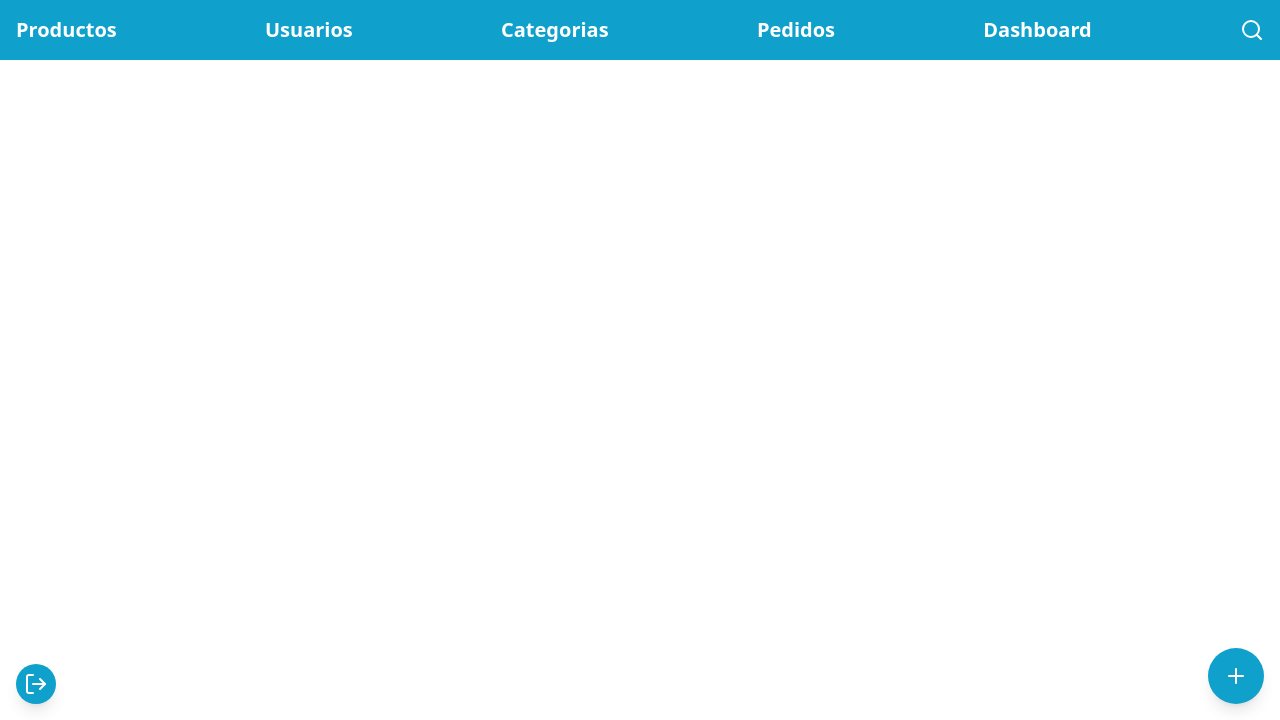
Test: Navigation › permite cambiar el criterio de búsqueda
The image size is (1280, 720).
Click the element named "abrir-busqueda".
click(1252, 30)  # box [1240, 18, 1264, 42]
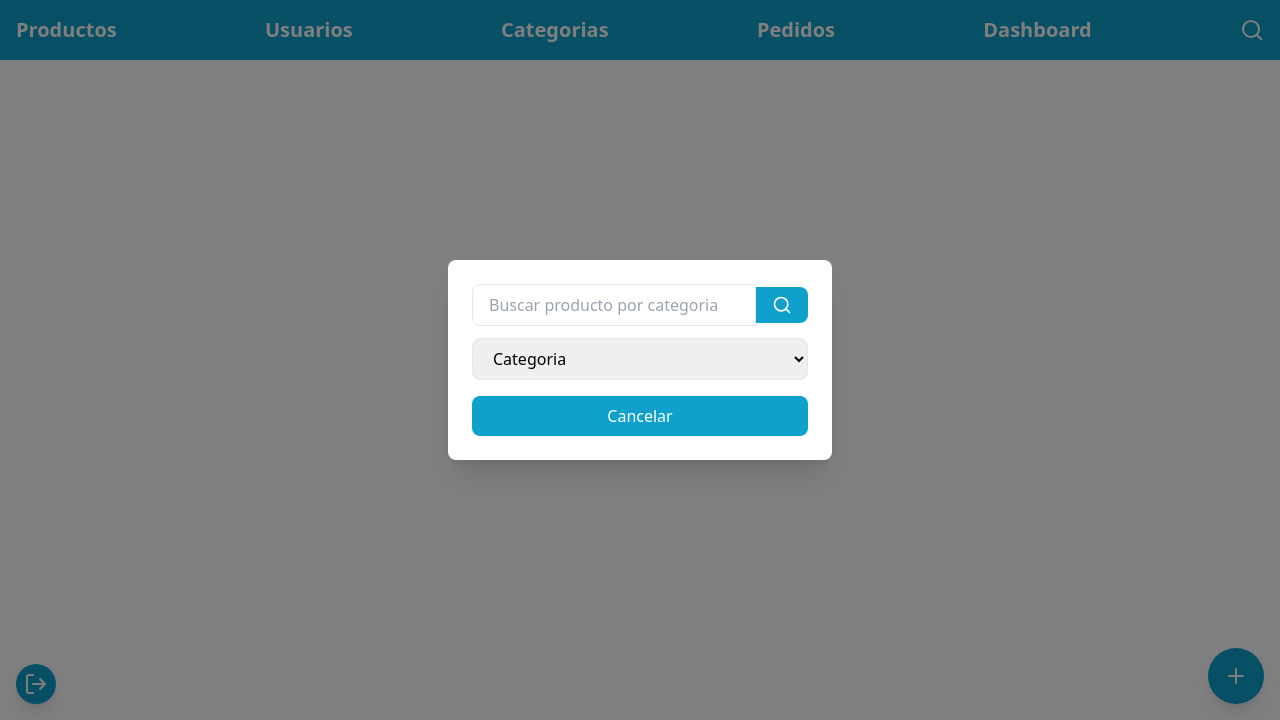
Select "Categoria" in the dropdown at (640, 359), box [472, 338, 808, 380]
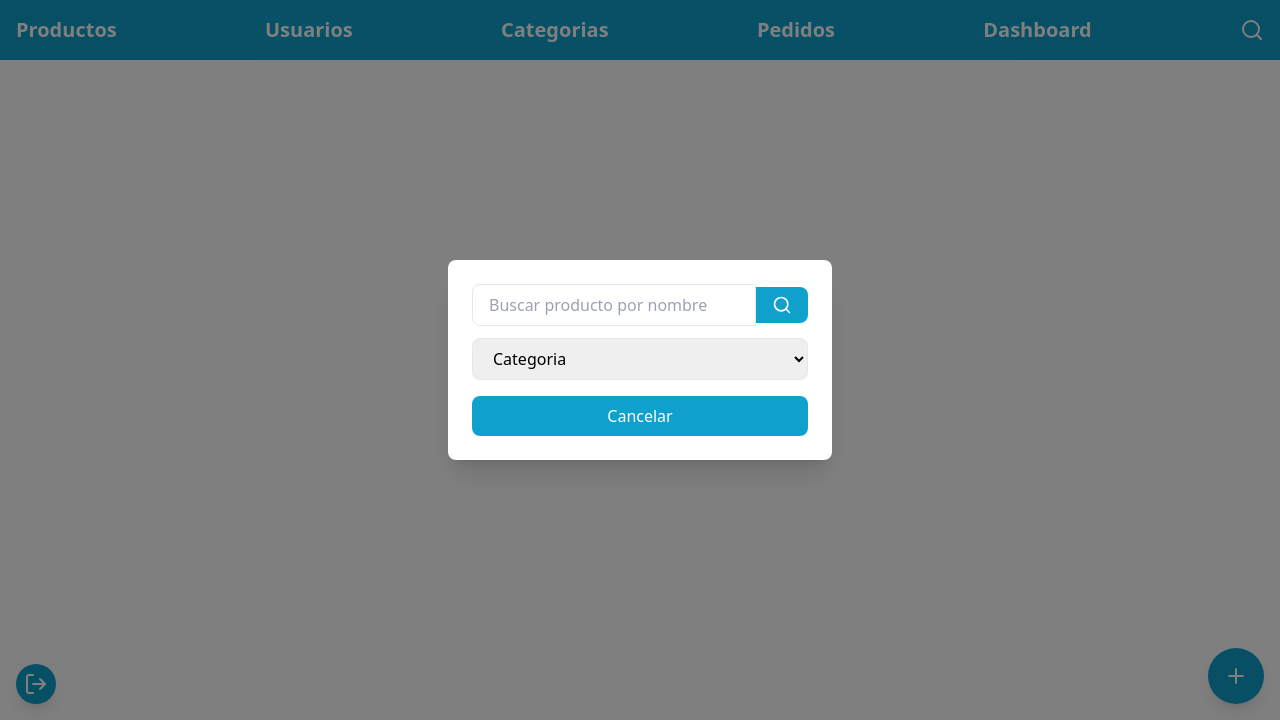
Check: the field with placeholder "Buscar producto por nombre" is shown, box [472, 284, 756, 326]
